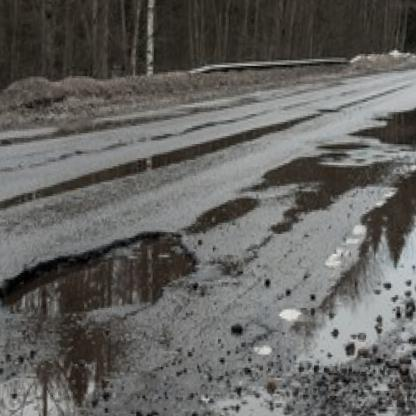pothole: (0, 224, 200, 320)
